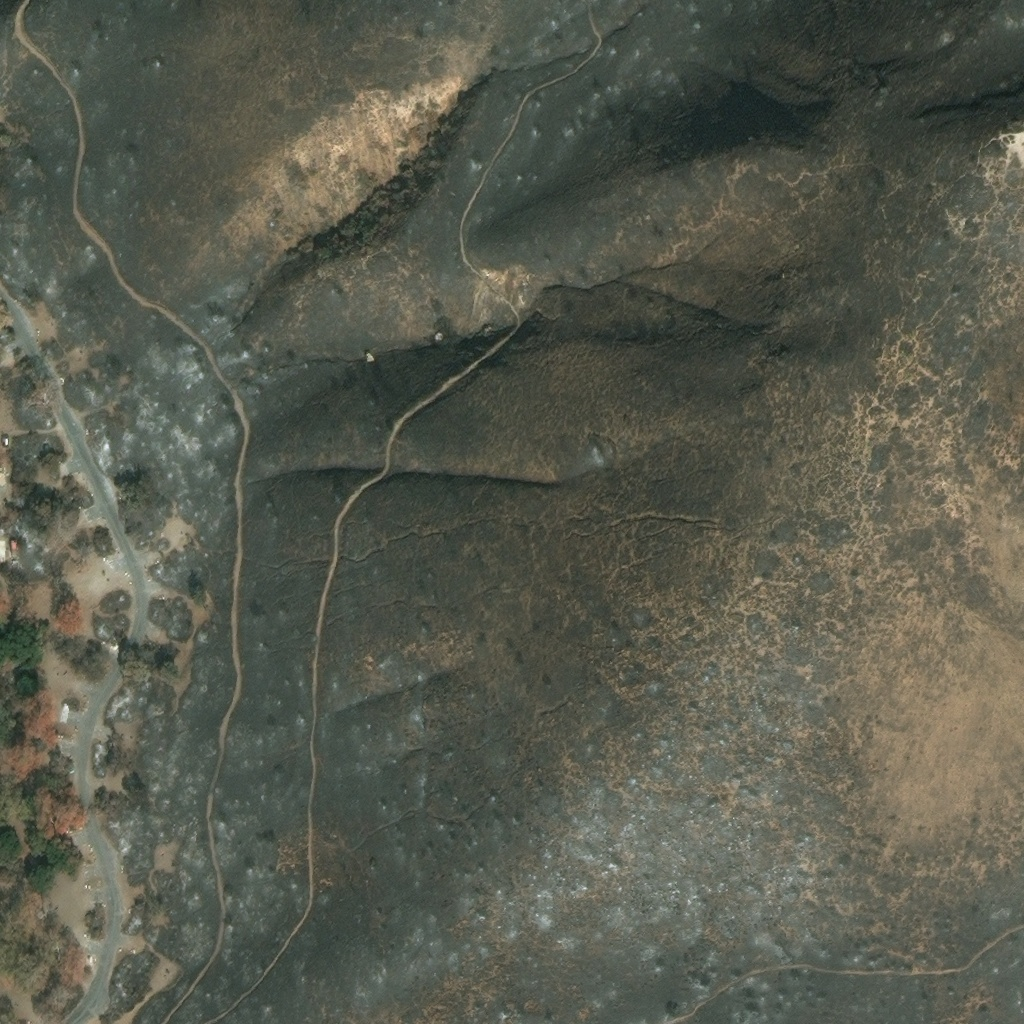0 no-damage: (9, 537, 17, 557), (2, 434, 8, 446)
4 un-classified: (0, 540, 8, 563), (0, 465, 4, 486)
